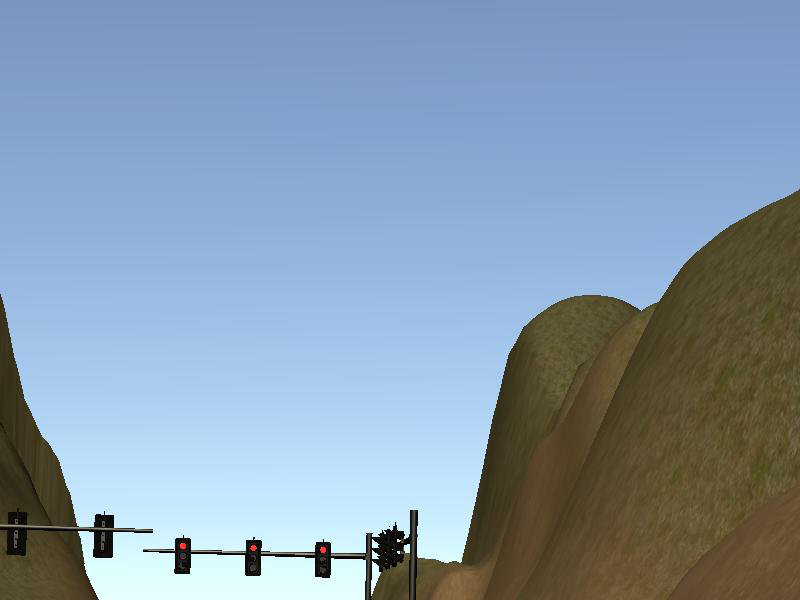red: (175, 538, 192, 575), (246, 538, 261, 576), (317, 542, 330, 577)
